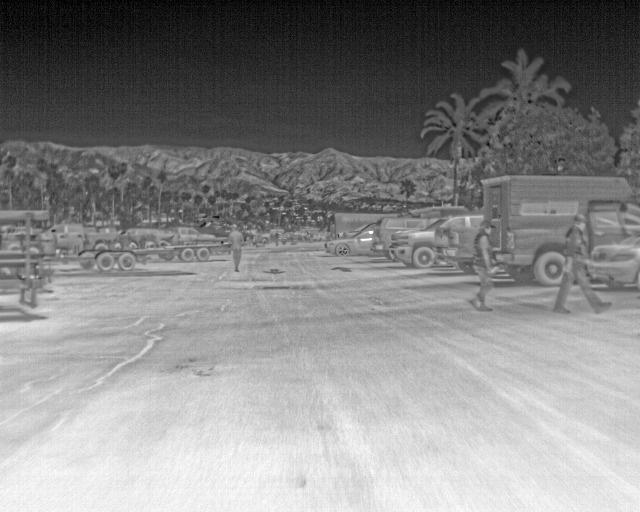bicycle: (386, 213, 480, 267), (588, 230, 637, 292), (376, 216, 434, 254), (36, 221, 84, 255), (322, 227, 372, 255), (165, 223, 217, 242)
empty: (552, 212, 613, 312), (469, 218, 496, 308), (227, 223, 244, 272)
